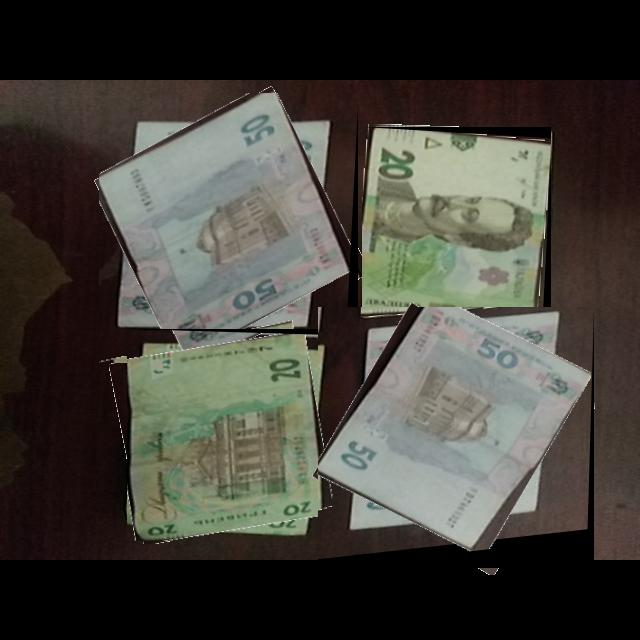20uah: (127, 334, 326, 542), (362, 128, 552, 328)
50uah: (318, 307, 594, 555), (99, 93, 352, 363)
